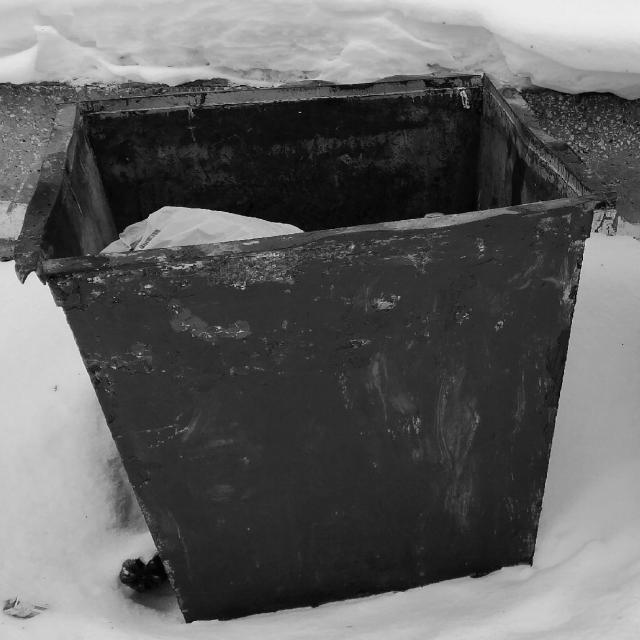bin: (13, 76, 616, 627)
plastic: (100, 207, 304, 253)
